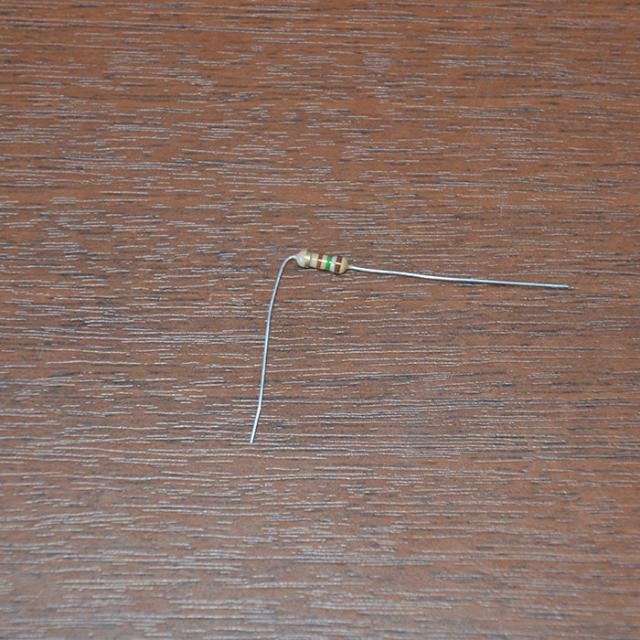brown: (336, 257, 342, 272), (316, 254, 322, 267)
gold: (305, 251, 311, 266)
green: (326, 255, 332, 269)
resistor: (293, 243, 354, 283)
